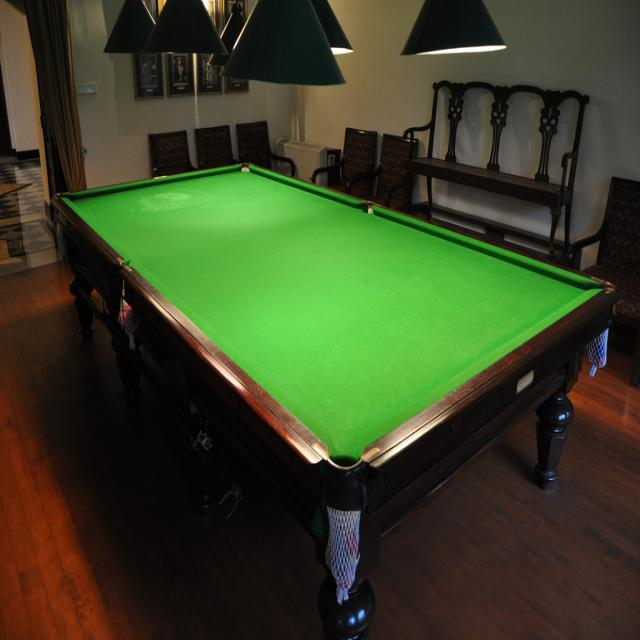Ball: (324, 528, 358, 589), (115, 300, 138, 334), (588, 331, 606, 367)
Billiard table: (49, 163, 617, 640)
